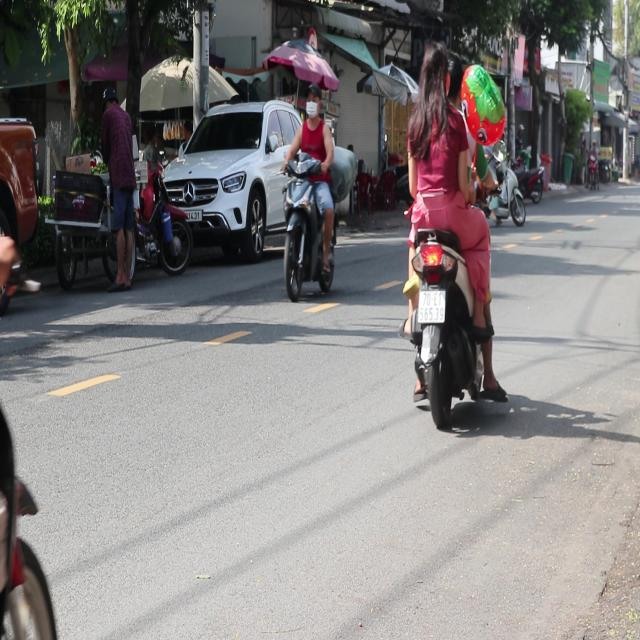licenseplate: (397, 35, 505, 430), (278, 79, 343, 301)
motorcyclist: (419, 42, 451, 104), (300, 80, 322, 126)
nohelmet: (418, 290, 445, 322)
